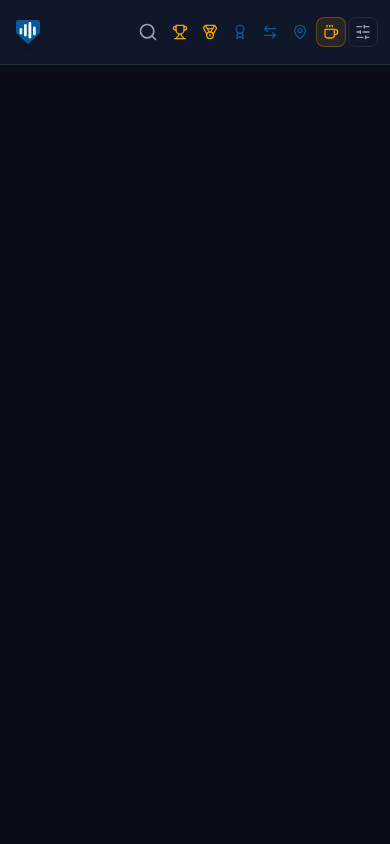
it: Navbar component › opens the phone settings menu, and closes it on Escape and outside clicks
Click the button named "設定".
click(363, 32)  # box [348,17,378,47]
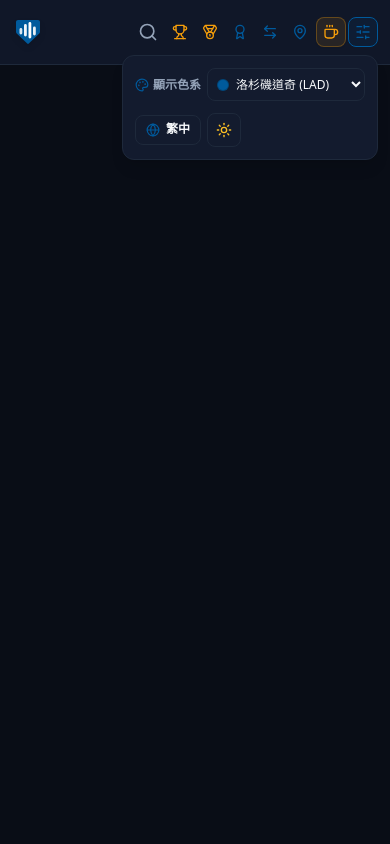
Expected: the button named "設定" is expanded, [348,17,378,47]
Expected: the dropdown named "選擇 30 隊主題色" is shown, [207,68,365,101]
Expected: the element with id "navbar-settings" shows "繁中", [135,115,201,145]
Press Escape
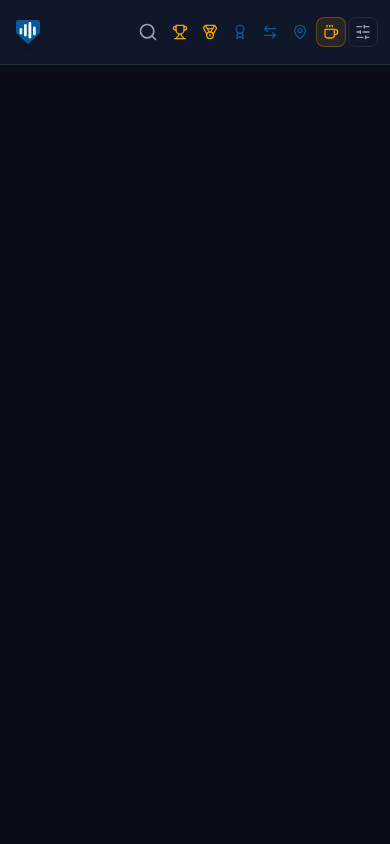
Expected: the element with id "navbar-settings" is gone
Click the button named "設定".
click(363, 32)  # box [348,17,378,47]
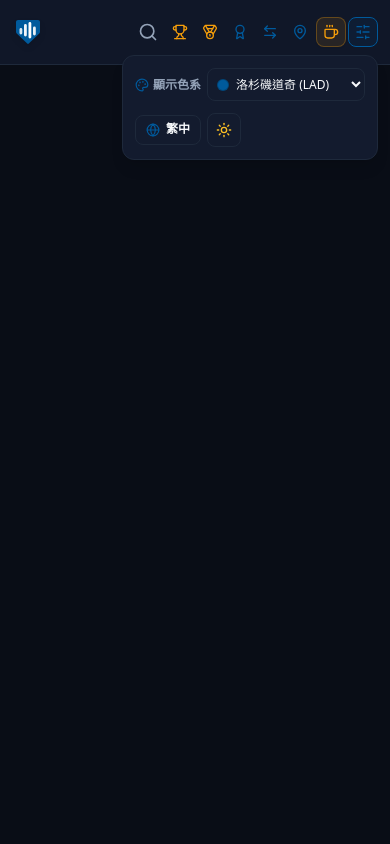
Press the mouse on the element showing "顯示色系 繁中" at (195,422), box [0,0,389,843]
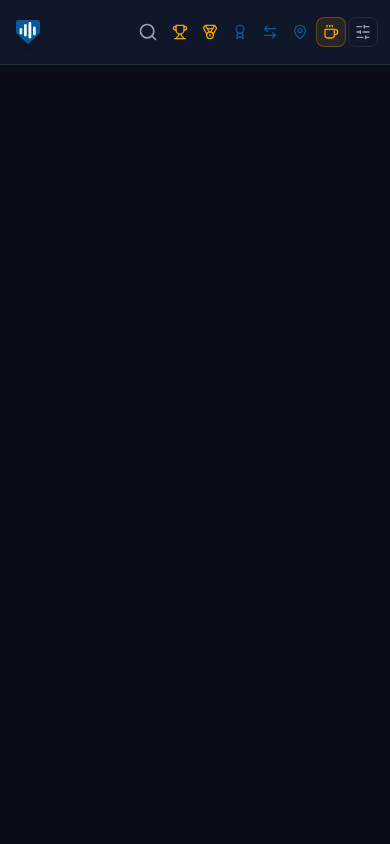
Expected: the element with id "navbar-settings" is gone
